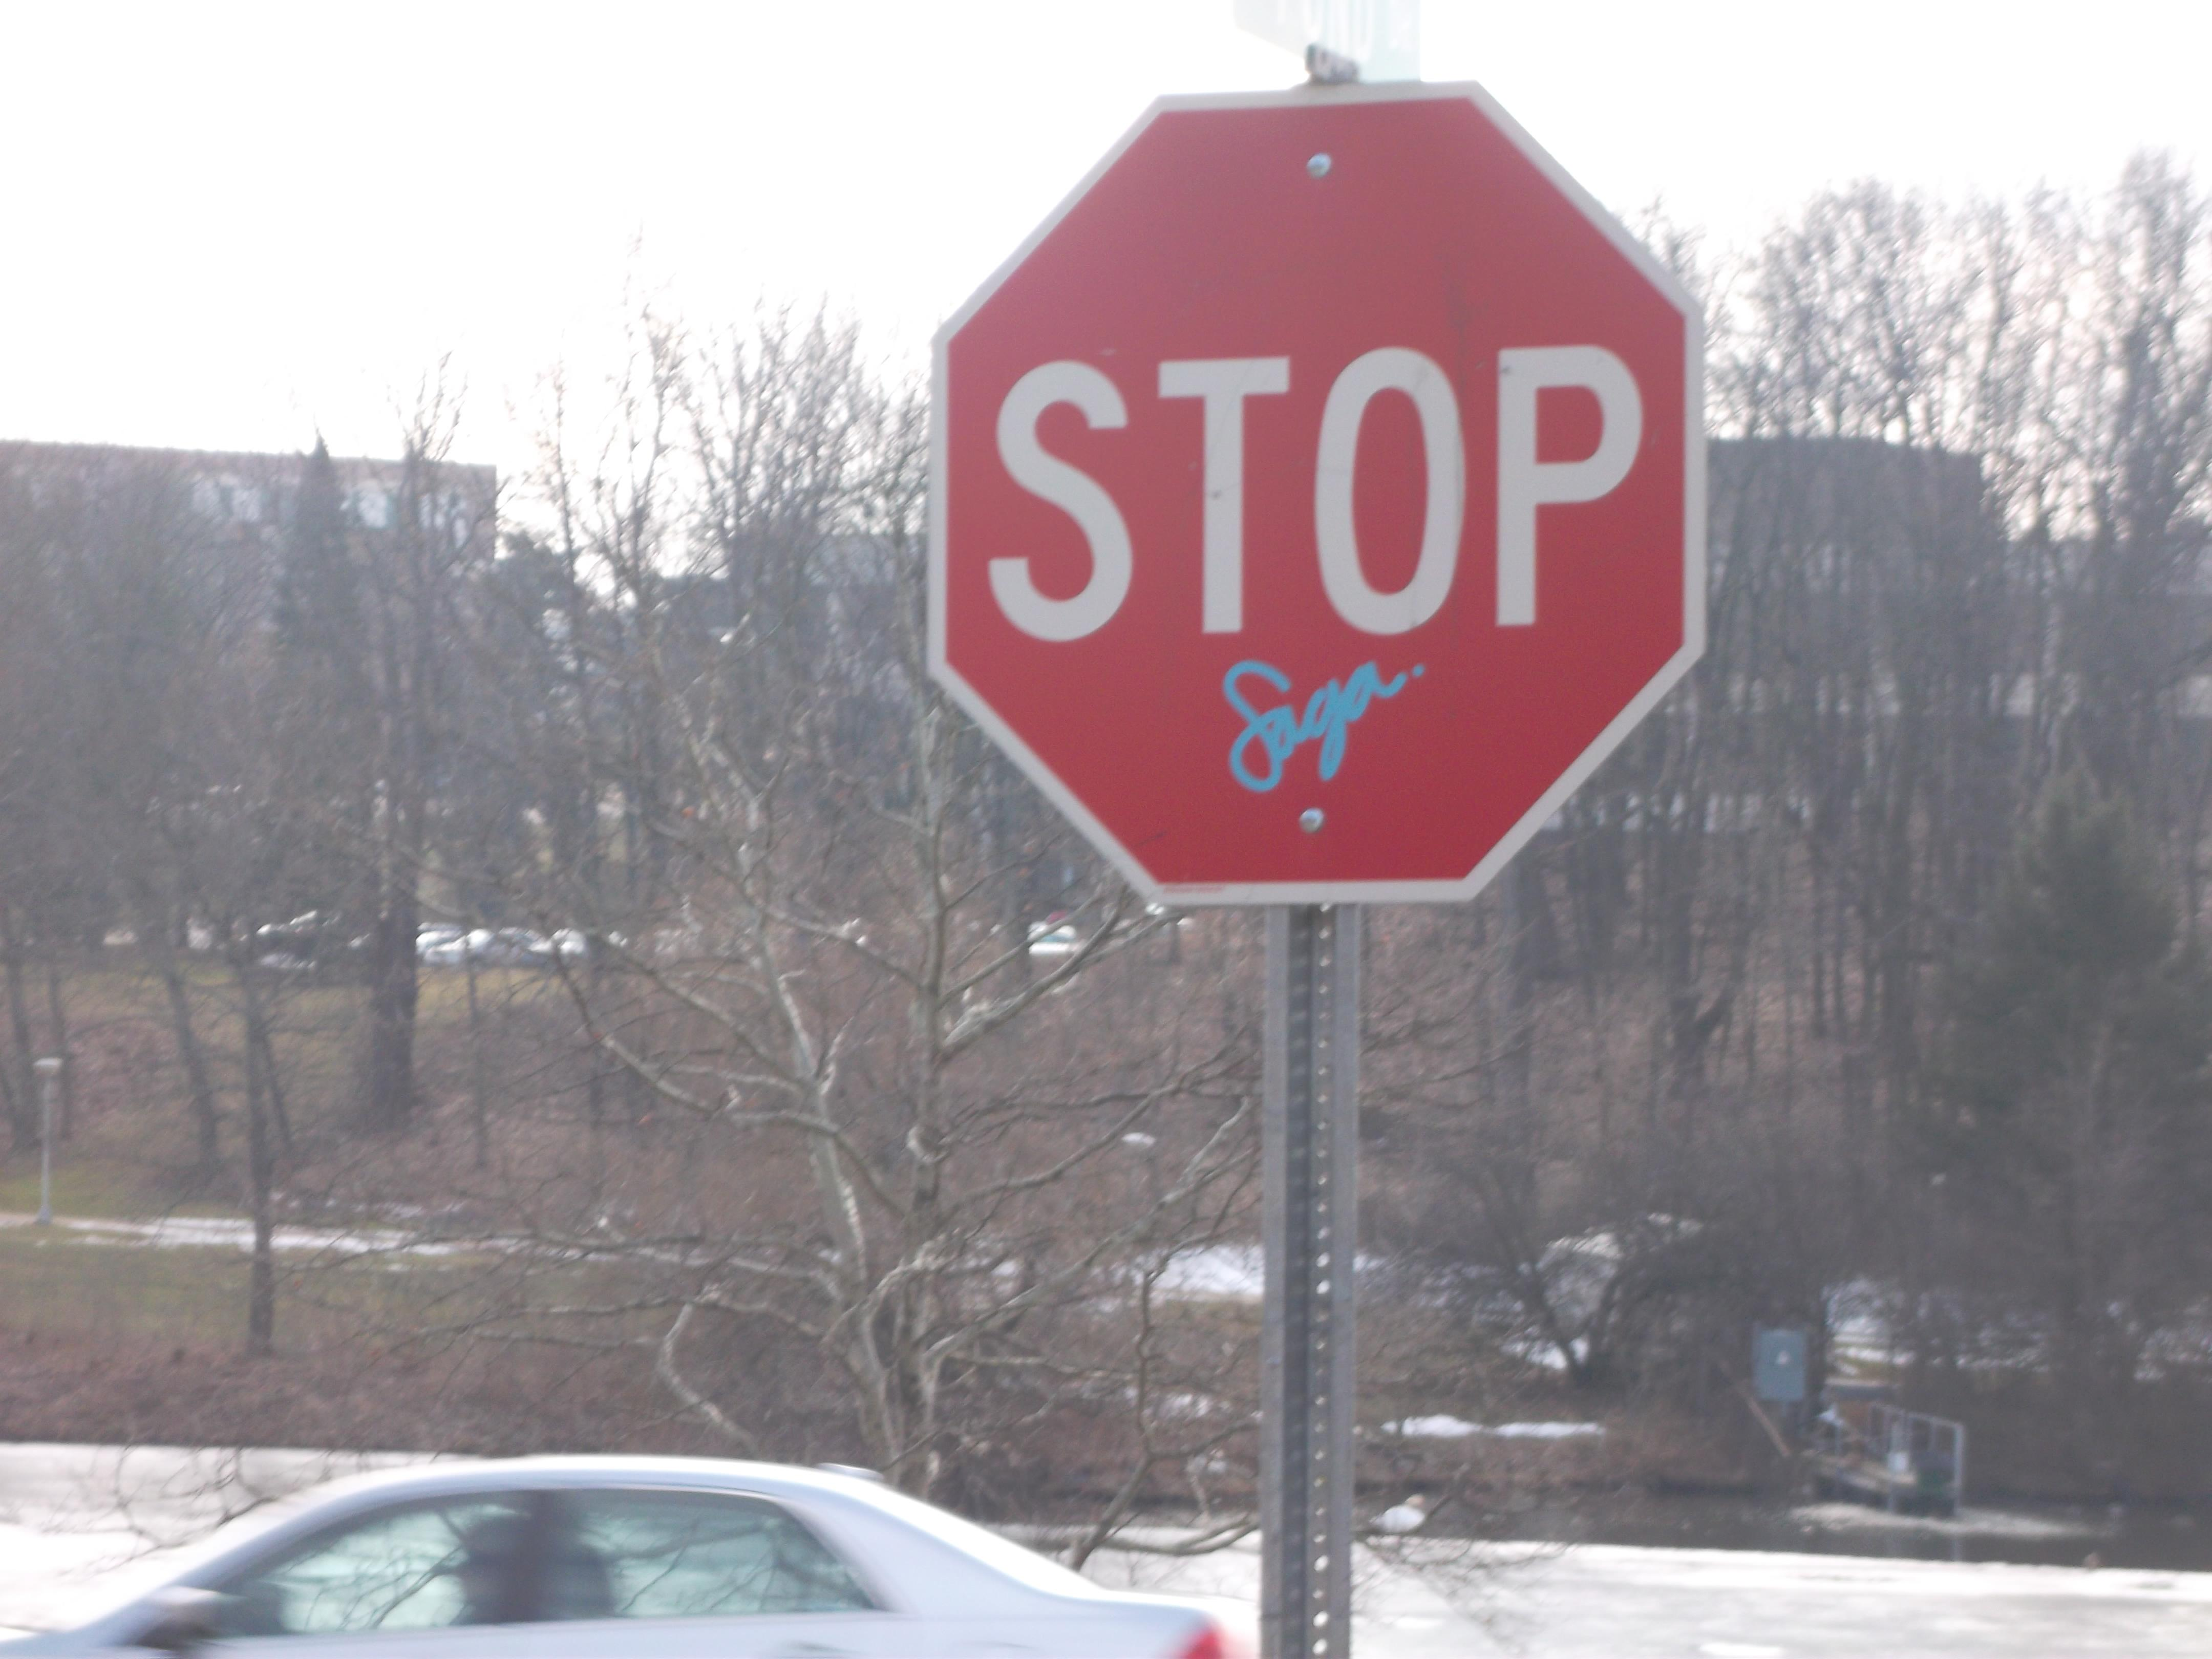stop: (909, 78, 1723, 911)
